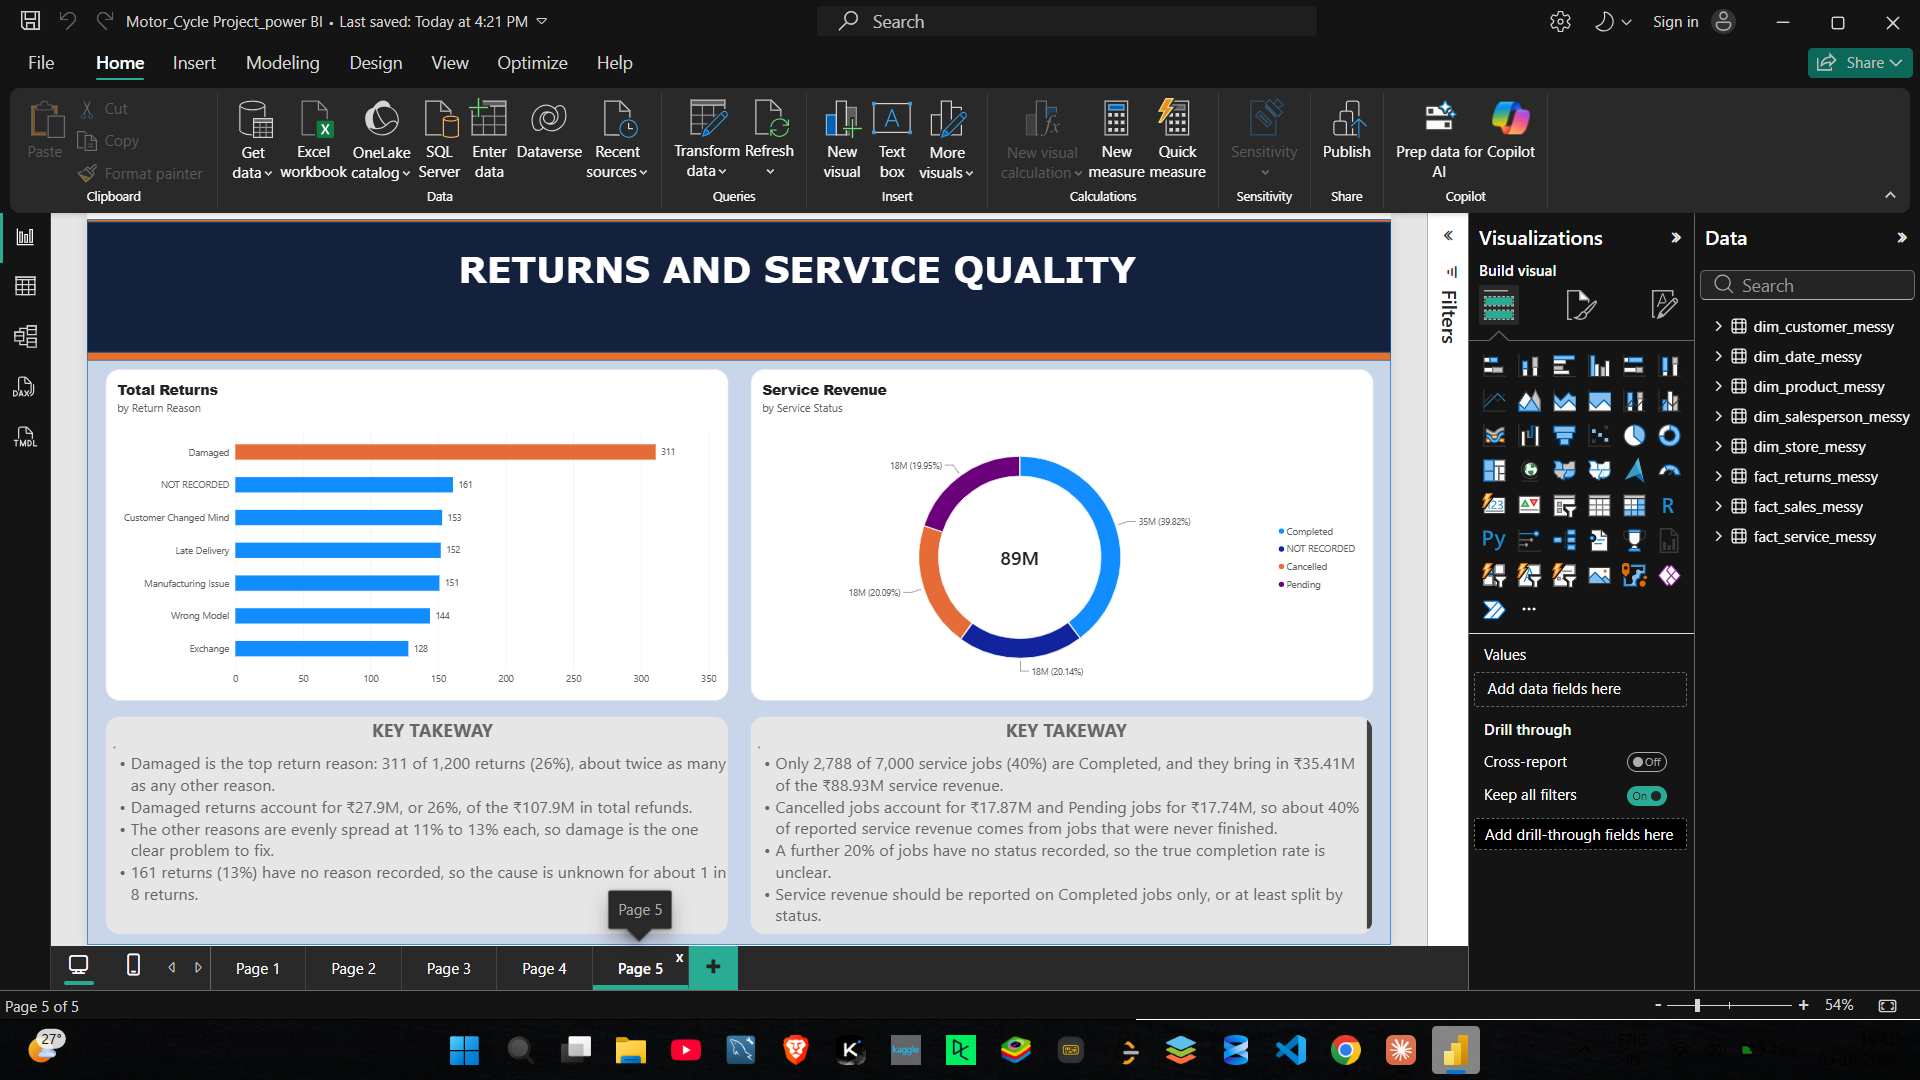

This screenshot's page, from the dashboard's own definition file:
{"tool":"powerbi","page":{"name":"Page 5","canvas":[1920,1080],"ordinal":4},"visuals":[{"type":"shape","box":[0,192,1920,886],"z":0},{"type":"shape","box":[0,10,1920,208],"z":3000},{"type":"shape","box":[0,12.5,1920,192.5],"z":4000},{"type":"textbox","box":[0,12,1920,192],"z":5000},{"type":"textbox","box":[28,742,916,320],"z":6000},{"type":"textbox","box":[978,742,916,320],"z":7000},{"type":"clusteredBarChart","title":"Total Returns ","fields":{"Category":["fact_returns_messy.Return_Reason"],"Y":["dim_customer_messy.Total Returns"]},"box":[27.6,230.1,916.6,487.7],"z":7001},{"type":"donutChart","title":"Service Revenue","fields":{"Category":["fact_service_messy.Service_Status"],"Y":["dim_customer_messy.Service Revenue"]},"box":[977.3,230.1,916.6,487.7],"z":7002}]}

Visuals, with their boxes on the page's 1920x1080 design canvas (x1, y1, x2, y2). These are canvas units, not pixel positions in the 1920x1080 screenshot, which may show the page scaled, cropped or inside an application window:
shape: bbox(0, 192, 1920, 1078)
shape: bbox(0, 10, 1920, 218)
shape: bbox(0, 12, 1920, 205)
textbox: bbox(0, 12, 1920, 204)
textbox: bbox(28, 742, 944, 1062)
textbox: bbox(978, 742, 1894, 1062)
"Total Returns " clusteredBarChart: bbox(28, 230, 944, 718)
"Service Revenue" donutChart: bbox(977, 230, 1894, 718)
